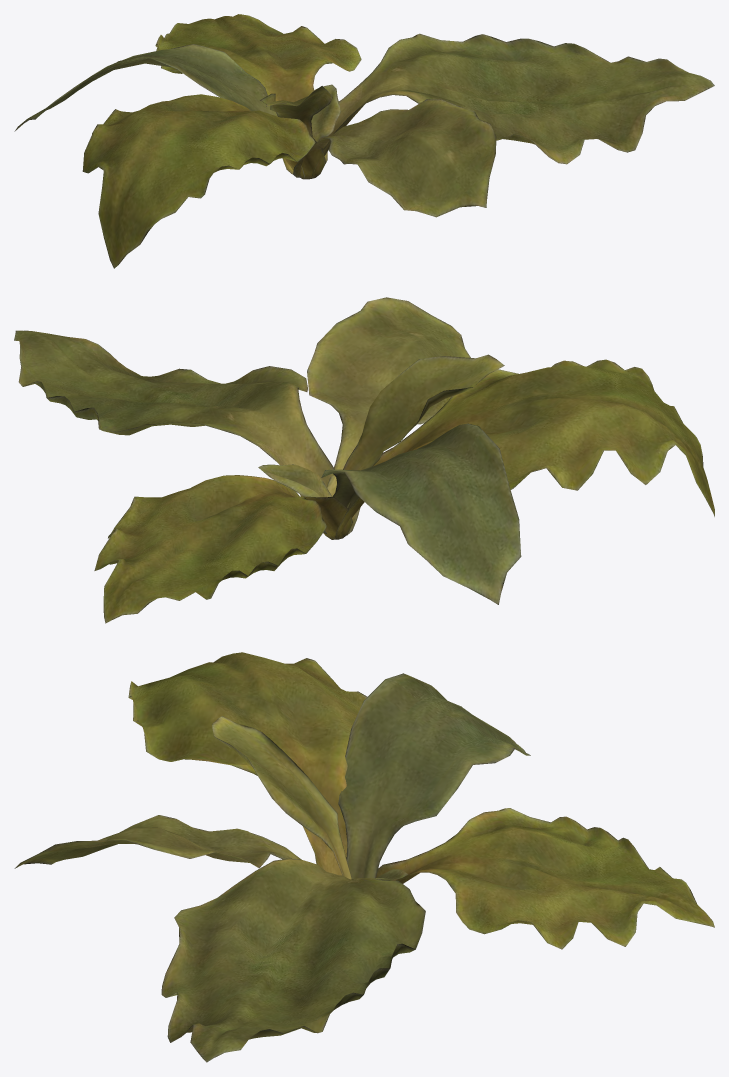
Rendered from crystalline_iceplant_c.gltf.
3 views of the same model, one above another, from view 1: azimuth 30°, elevation 25°; view 2: azimuth 150°, elevation 25°; view 3: azimuth 270°, elevation 25° (orthographic). The views are drawn at different scales.
Visible parts, largest first — view 1: crystalline_iceplant_c_LOD0; view 2: crystalline_iceplant_c_LOD0; view 3: crystalline_iceplant_c_LOD0.
Boxes of the visible parts, left/top/right/bottom form: crystalline_iceplant_c_LOD0: left=14, top=14, right=714, bottom=268; crystalline_iceplant_c_LOD0: left=14, top=297, right=714, bottom=623; crystalline_iceplant_c_LOD0: left=14, top=652, right=714, bottom=1062.
Bounding box in the file's own units: 0.2674 × 0.0605 × 0.2275.
1 material, 1 textured.
